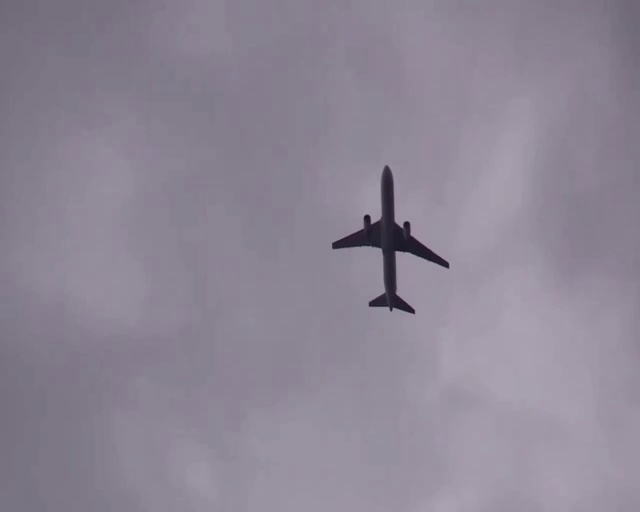AIRPLANE: (333, 163, 449, 314)
